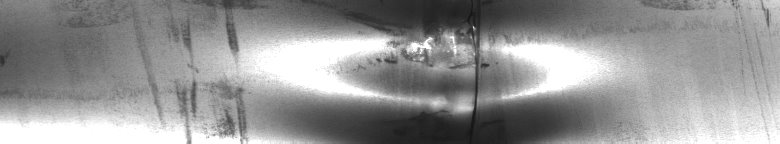ke: (361, 20, 536, 120)
